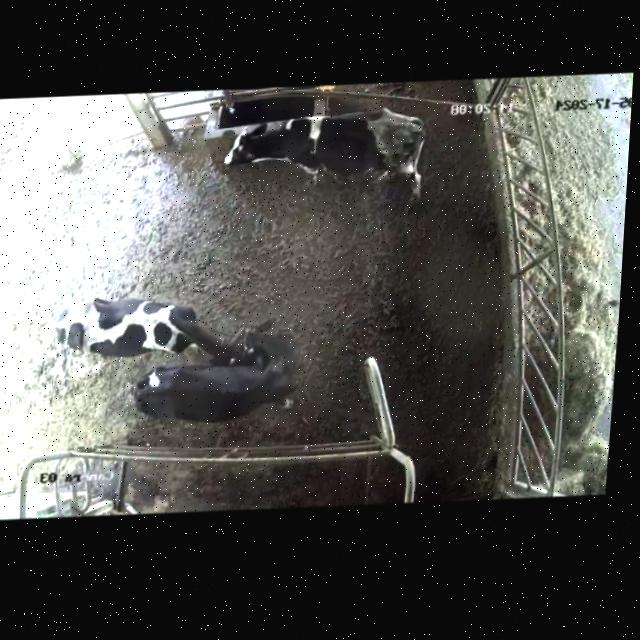stand: (30, 243, 264, 378), (200, 94, 438, 215), (116, 311, 310, 449)
